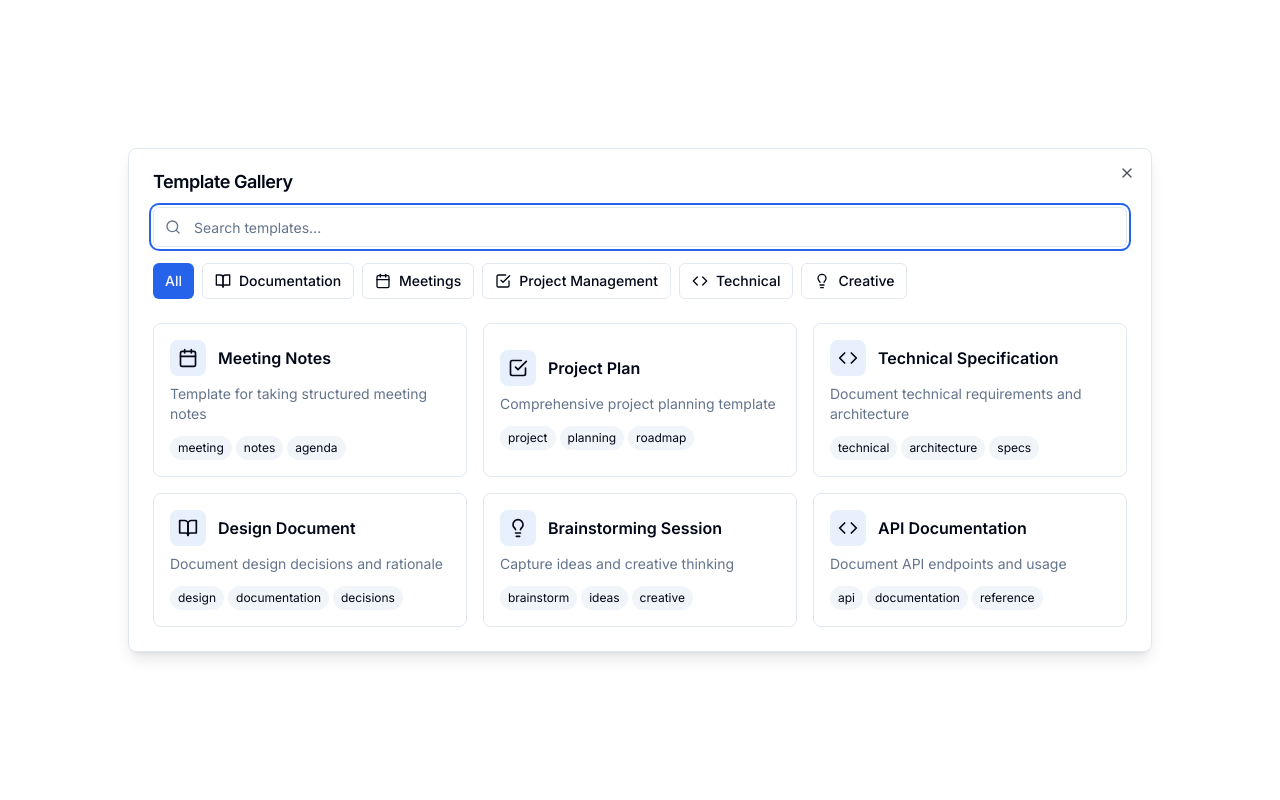
Test case: TemplateGallery › shows empty state when no templates match search
Type "nonexistent" into the field with placeholder "Search templates..." at (640, 227), box [153,207,1127,247]
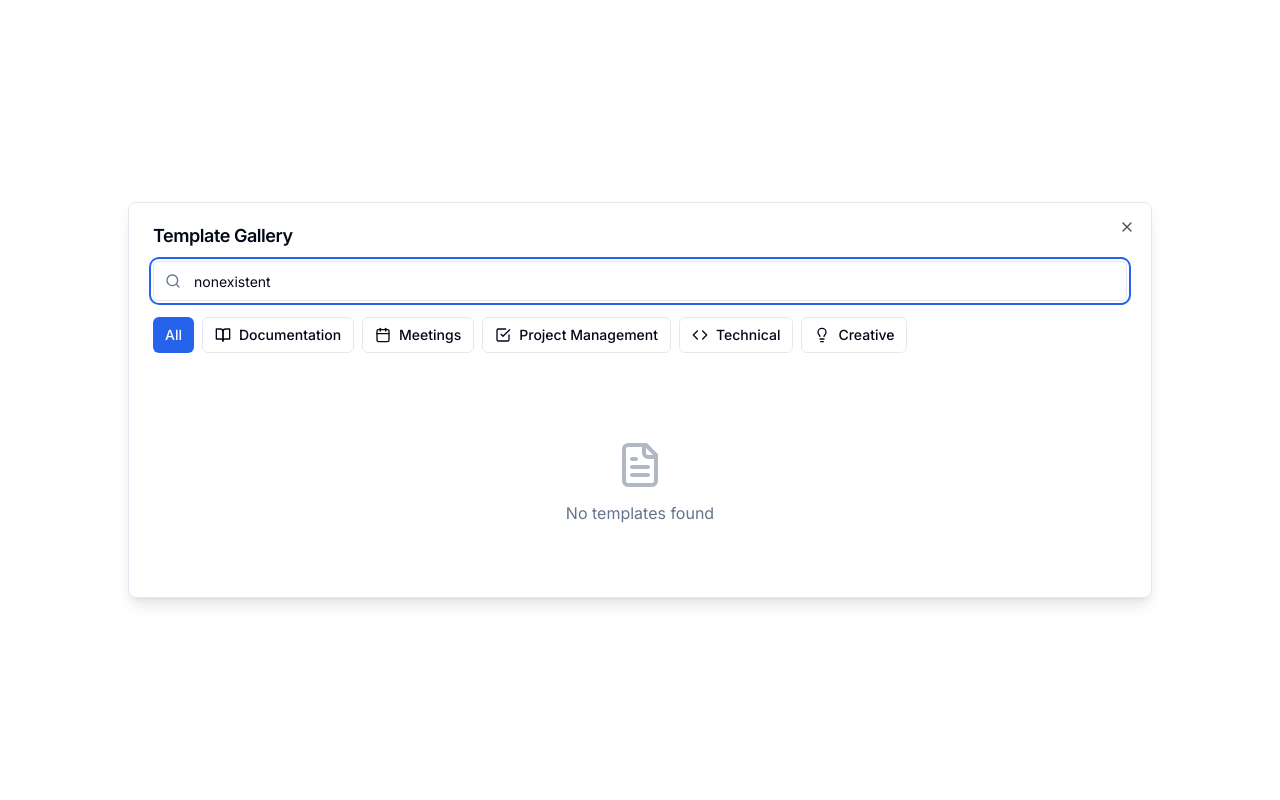
Expected: the text "No templates found" is shown, [566,503,714,523]
